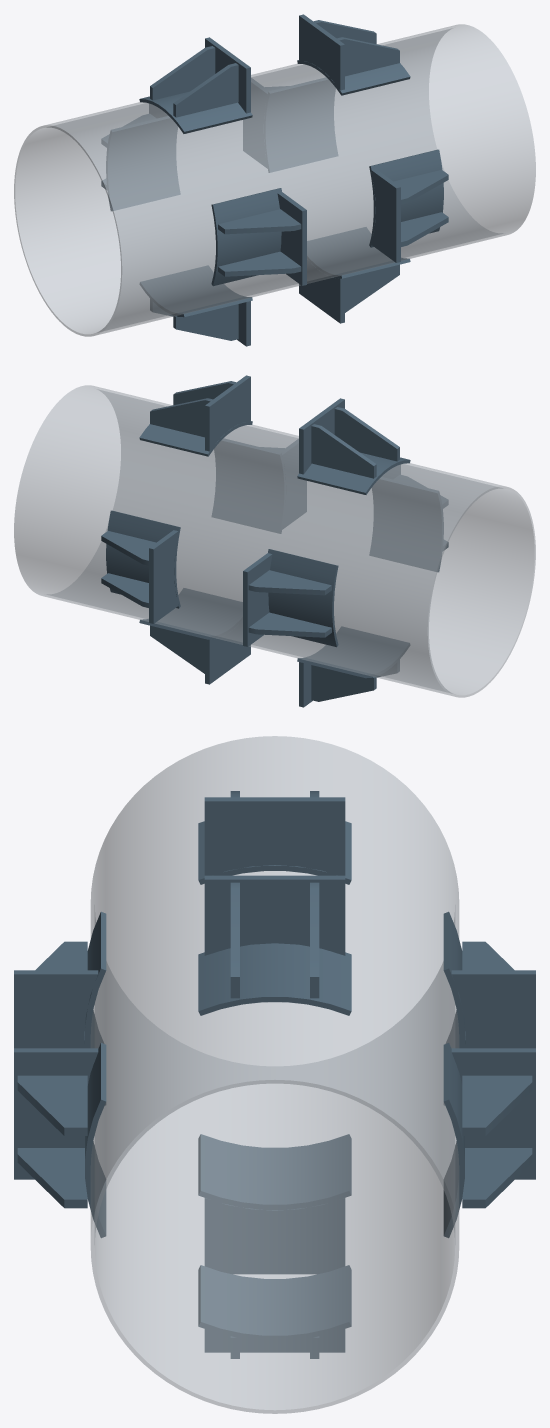
File: TS-664.00.00-02-opora-dn630-ris1.glb
The picture shows the model from 3 angles, top to bottom: view 1: azimuth 30°, elevation 25°; view 2: azimuth 150°, elevation 25°; view 3: azimuth 270°, elevation 25°; orthographic projection. The views are drawn at different scales.
Visible parts, largest first — view 1: truba, det_32, det_28, det_16, det_24, det_20, det_12, det_9, det_1, det_7, det_6, det_8 (+14 smaller); view 2: truba, det_16, det_12, det_32, det_24, det_20, det_28, det_25, det_1, det_6, det_7, det_8 (+14 smaller); view 3: truba, det_5, det_24, det_20, det_21, det_1, det_4, det_13, det_29, det_9, det_25, det_10 (+13 smaller).
Boxes of the visible parts, x1=… form: truba: x1=14, y1=24, x2=535, y2=336; det_32: x1=106, y1=116, x2=180, y2=211; det_28: x1=264, y1=78, x2=337, y2=172; det_16: x1=211, y1=188, x2=281, y2=286; det_24: x1=140, y1=266, x2=252, y2=317; det_20: x1=307, y1=227, x2=410, y2=278; det_12: x1=369, y1=149, x2=443, y2=247; det_9: x1=371, y1=169, x2=400, y2=262; det_1: x1=299, y1=14, x2=344, y2=90; det_7: x1=173, y1=63, x2=238, y2=117; det_6: x1=150, y1=46, x2=215, y2=100; det_8: x1=139, y1=91, x2=252, y2=133; truba: x1=14, y1=385, x2=535, y2=697; det_16: x1=369, y1=477, x2=443, y2=572; det_12: x1=212, y1=439, x2=285, y2=533; det_32: x1=268, y1=549, x2=338, y2=647; det_24: x1=297, y1=627, x2=409, y2=678; det_20: x1=139, y1=588, x2=242, y2=639; det_28: x1=106, y1=510, x2=180, y2=608; det_25: x1=149, y1=530, x2=178, y2=623; det_1: x1=205, y1=375, x2=250, y2=451; det_6: x1=311, y1=424, x2=376, y2=478; det_7: x1=334, y1=407, x2=399, y2=461; det_8: x1=297, y1=452, x2=410, y2=494; truba: x1=90, y1=736, x2=459, y2=1413; det_5: x1=204, y1=797, x2=345, y2=875; det_24: x1=198, y1=1134, x2=351, y2=1209; det_20: x1=198, y1=1265, x2=351, y2=1340; det_21: x1=204, y1=1198, x2=345, y2=1274; det_1: x1=204, y1=875, x2=345, y2=955; det_4: x1=198, y1=943, x2=351, y2=1015; det_13: x1=14, y1=970, x2=98, y2=1048; det_29: x1=451, y1=970, x2=535, y2=1048; det_9: x1=14, y1=1048, x2=98, y2=1179; det_25: x1=451, y1=1048, x2=535, y2=1179; det_10: x1=17, y1=1075, x2=87, y2=1135.
Size of the model in its own units: 1390 by 892 by 892.
